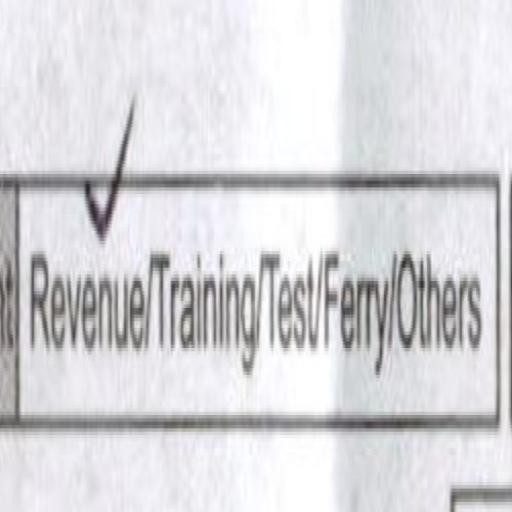check: (14, 61, 148, 484)
